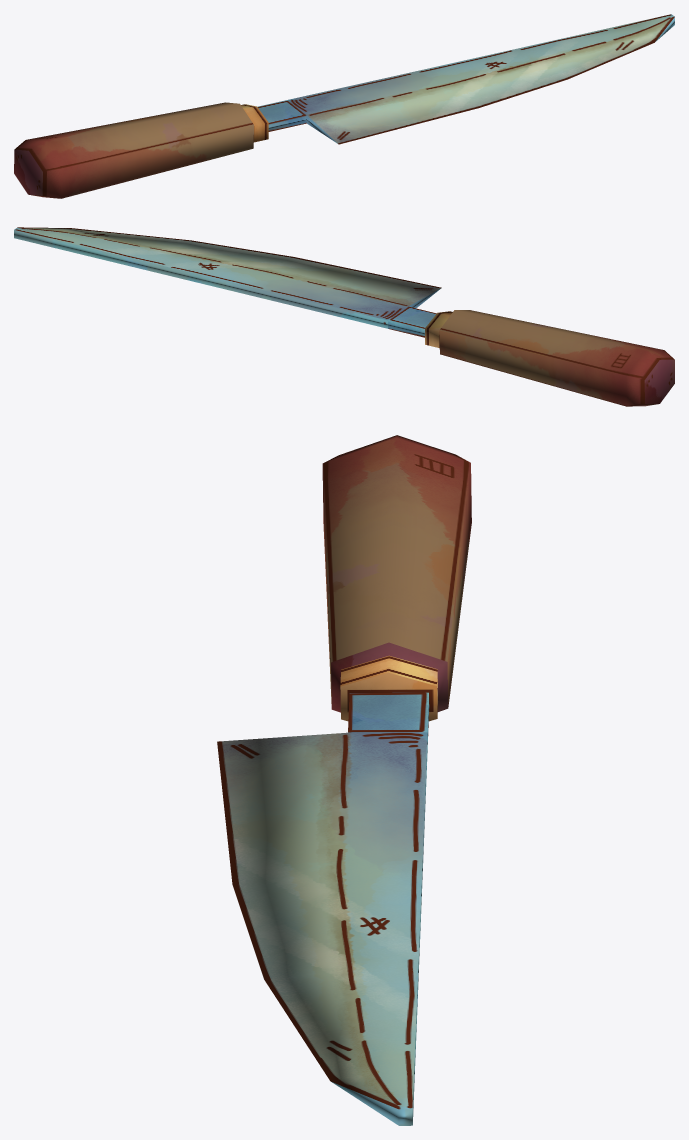
Rendered from knife.fbx.
The picture shows the model from 3 angles, top to bottom: view 1: azimuth 30°, elevation 25°; view 2: azimuth 150°, elevation 25°; view 3: azimuth 270°, elevation 25°; orthographic projection. The views are drawn at different scales.
Visible parts, largest first — view 1: knife; view 2: knife; view 3: knife.
Part boxes in pixels (x1=…): knife: x1=14, y1=14, x2=674, y2=198; knife: x1=14, y1=227, x2=674, y2=406; knife: x1=217, y1=435, x2=471, y2=1125.
Size of the model in its own units: 45.13 by 3.72 by 7.75.
1 material, 1 textured.
